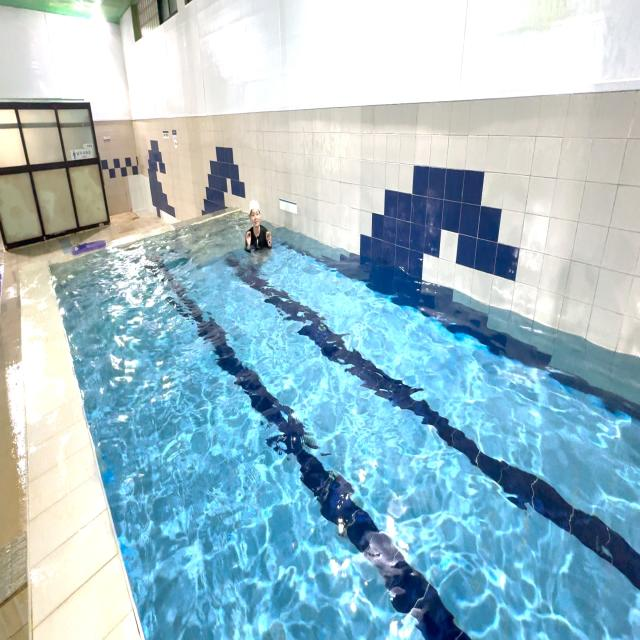Swimming: (240, 196, 274, 254)
